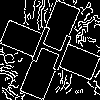H: (25, 25, 75, 81)
